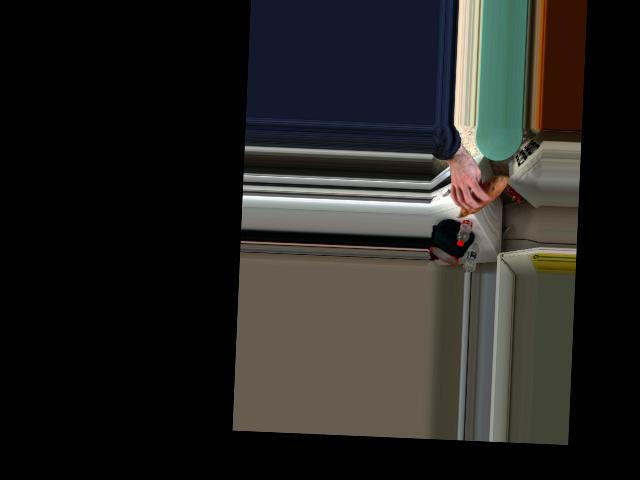sweet_potato: (454, 174, 505, 218)
